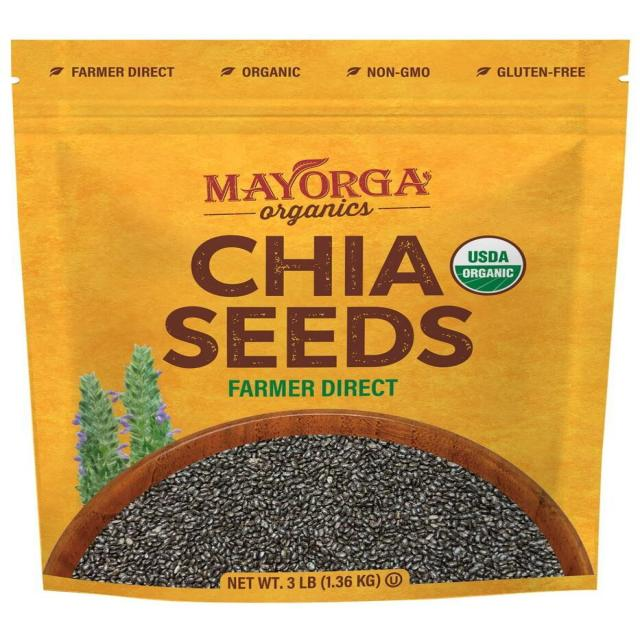food-package: (34, 48, 597, 596)
